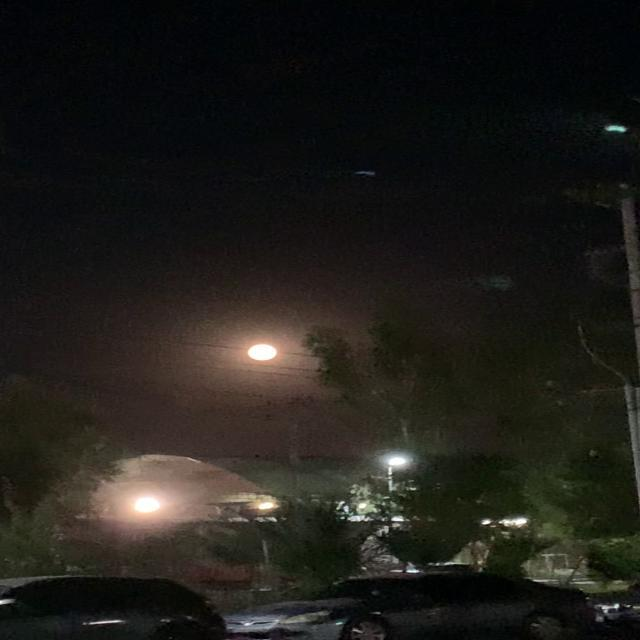moon: (240, 334, 292, 359)
